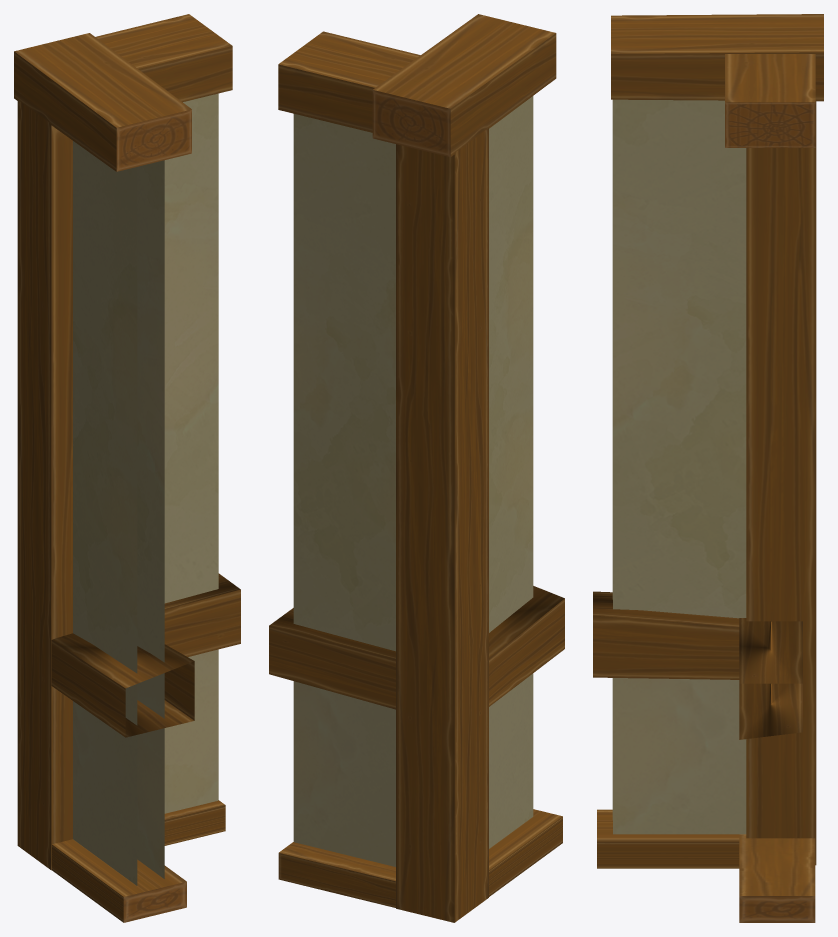
The model's file is SM_House_Corner_02.fbx.
3 renders of one model, left to right at view 1: azimuth 30°, elevation 25°; view 2: azimuth 150°, elevation 25°; view 3: azimuth 270°, elevation 25°, orthographic. The views are drawn at different scales.
Parts seen in each view (by area): view 1: SM_House_Corner_02; view 2: SM_House_Corner_02; view 3: SM_House_Corner_02.
Boxes of the visible parts, x1,y1,x2,y2 form: SM_House_Corner_02: [14, 14, 240, 922]; SM_House_Corner_02: [269, 14, 564, 922]; SM_House_Corner_02: [593, 14, 823, 922].
Bounding box in the file's own units: 0.9858 × 4.01 × 1.02.
